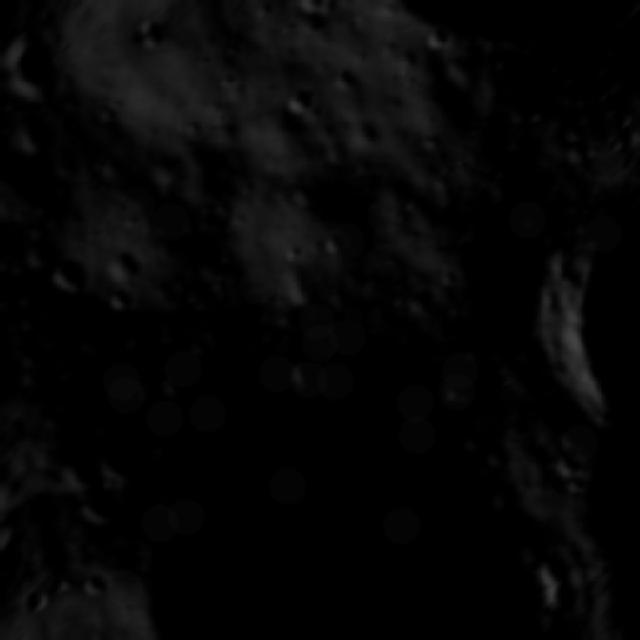crater: (52, 274, 556, 640), (477, 167, 640, 456), (79, 414, 172, 498), (278, 335, 354, 417), (428, 351, 498, 423), (63, 472, 135, 538), (44, 432, 110, 503), (12, 56, 88, 116), (37, 247, 103, 310), (6, 103, 63, 160), (272, 74, 328, 126), (526, 542, 582, 592), (99, 242, 150, 292), (417, 16, 468, 61), (284, 170, 328, 213), (100, 277, 142, 321), (544, 439, 584, 484), (72, 565, 113, 606), (294, 0, 341, 26), (0, 88, 17, 154)
